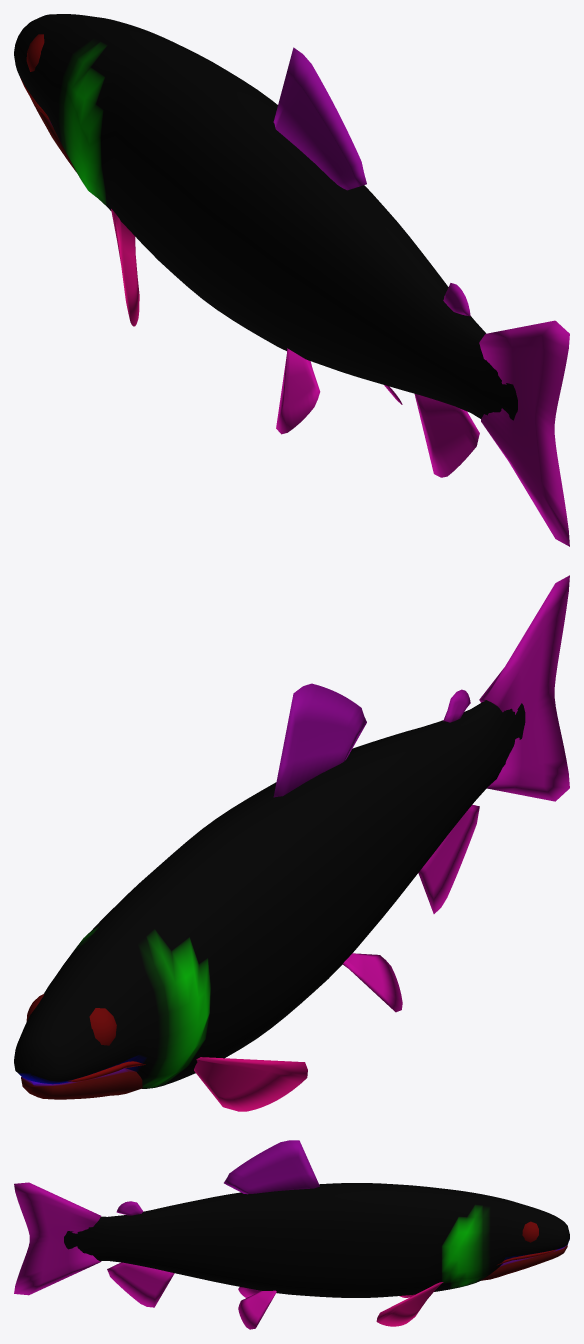
The model's file is cutthroat_trout_lo.glb.
3 views of the same model, one above another, from view 1: azimuth 30°, elevation 25°; view 2: azimuth 150°, elevation 25°; view 3: azimuth 270°, elevation 25° (orthographic). The views are drawn at different scales.
Parts seen in each view (by area): view 1: cutthroat_trout_lo; view 2: cutthroat_trout_lo; view 3: cutthroat_trout_lo.
Boxes of the visible parts, x1,y1,x2,y2 form: cutthroat_trout_lo: (14, 14, 569, 546); cutthroat_trout_lo: (14, 575, 569, 1111); cutthroat_trout_lo: (14, 1140, 569, 1329).
Size of the model in its own units: 0.0768 by 0.1378 by 0.3987.
